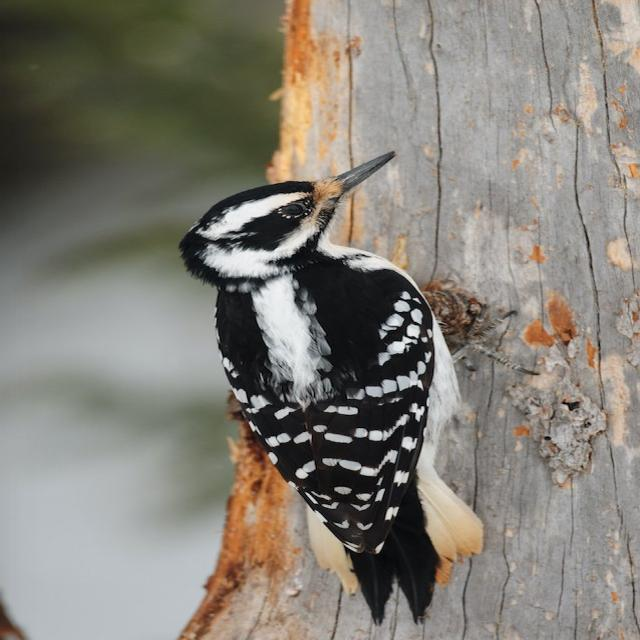Woodpecker: (158, 145, 513, 622)
